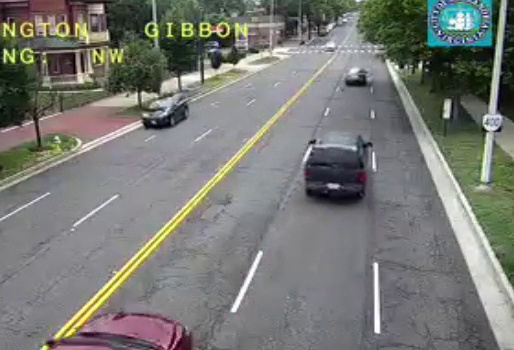car: (305, 134, 367, 198), (345, 68, 365, 84)
